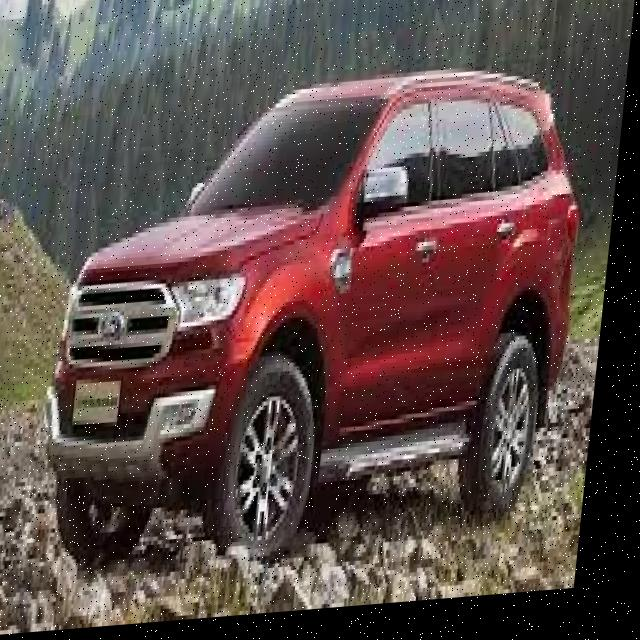car: (27, 35, 605, 594)
